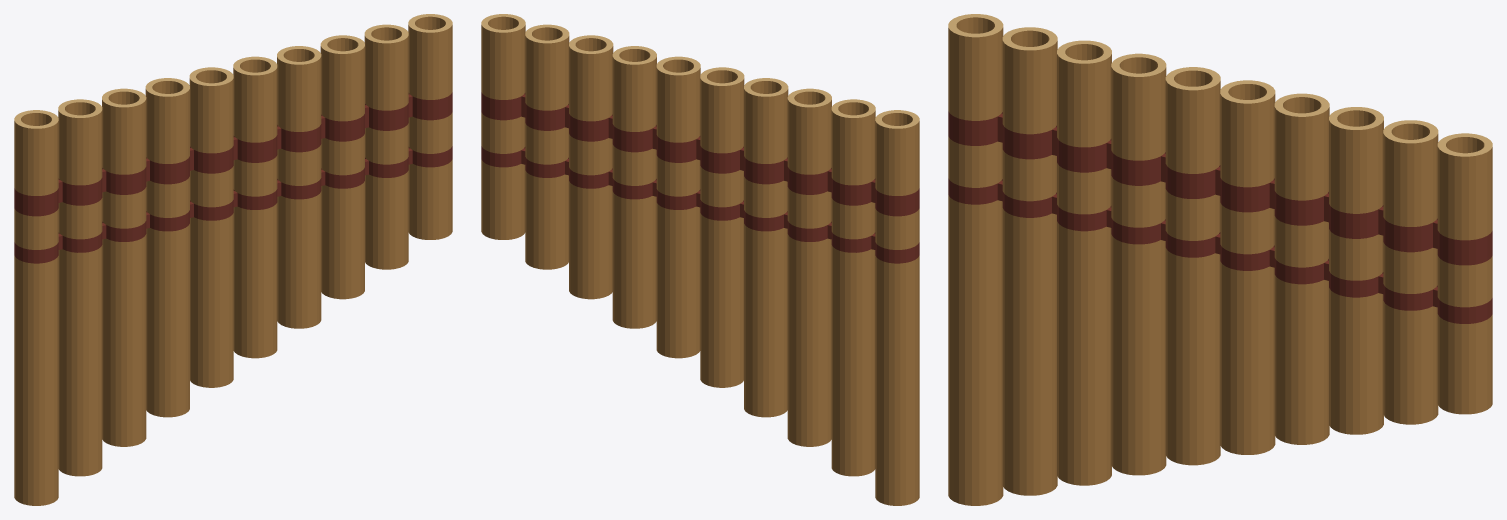
Rendered from NEW_RECOVERY_063_LOD0.glb.
3 views of the same model, side by side, from view 1: azimuth 30°, elevation 25°; view 2: azimuth 150°, elevation 25°; view 3: azimuth 330°, elevation 25° (orthographic). The views are drawn at different scales.
Visible parts, largest first — view 1: Pan_flute; view 2: Pan_flute; view 3: Pan_flute.
Boxes of the visible parts, box(x1,y1,x2,y2) form: Pan_flute: box(14, 14, 452, 505); Pan_flute: box(481, 14, 919, 505); Pan_flute: box(948, 14, 1492, 505).
Bounding box in the file's own units: 3.36 × 2.8 × 0.2974.
